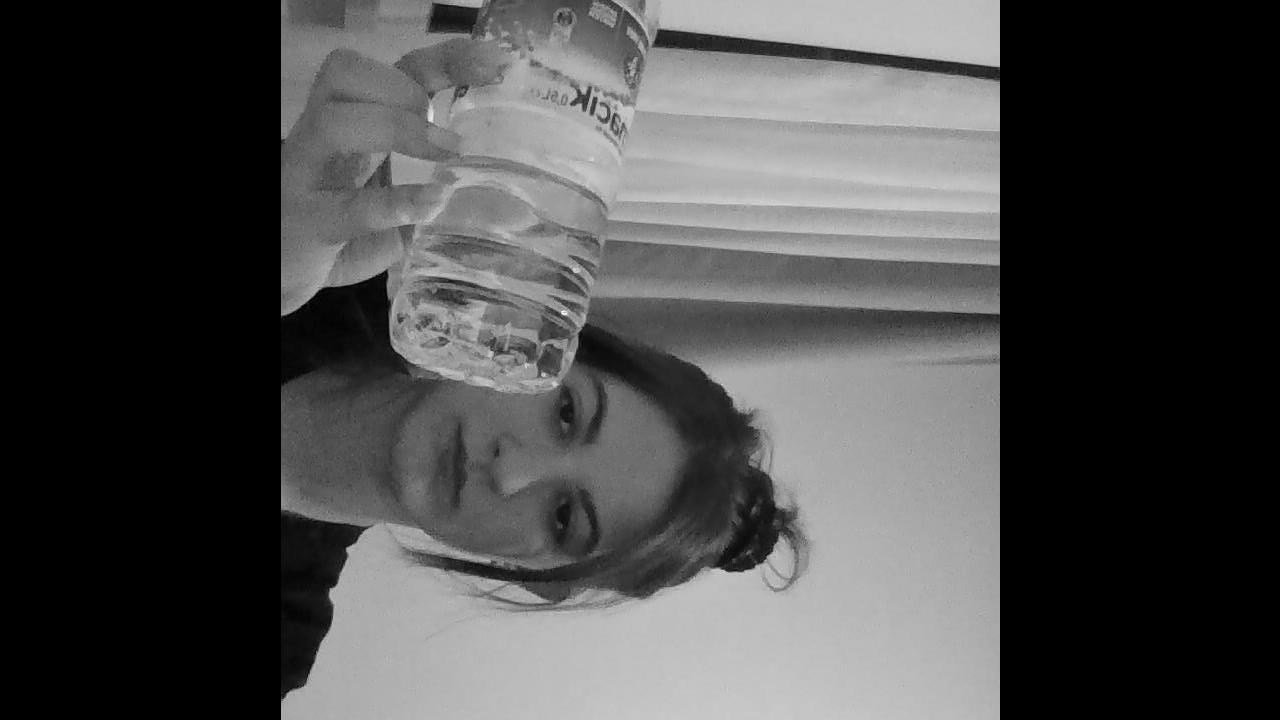bottle: (389, 0, 662, 391)
